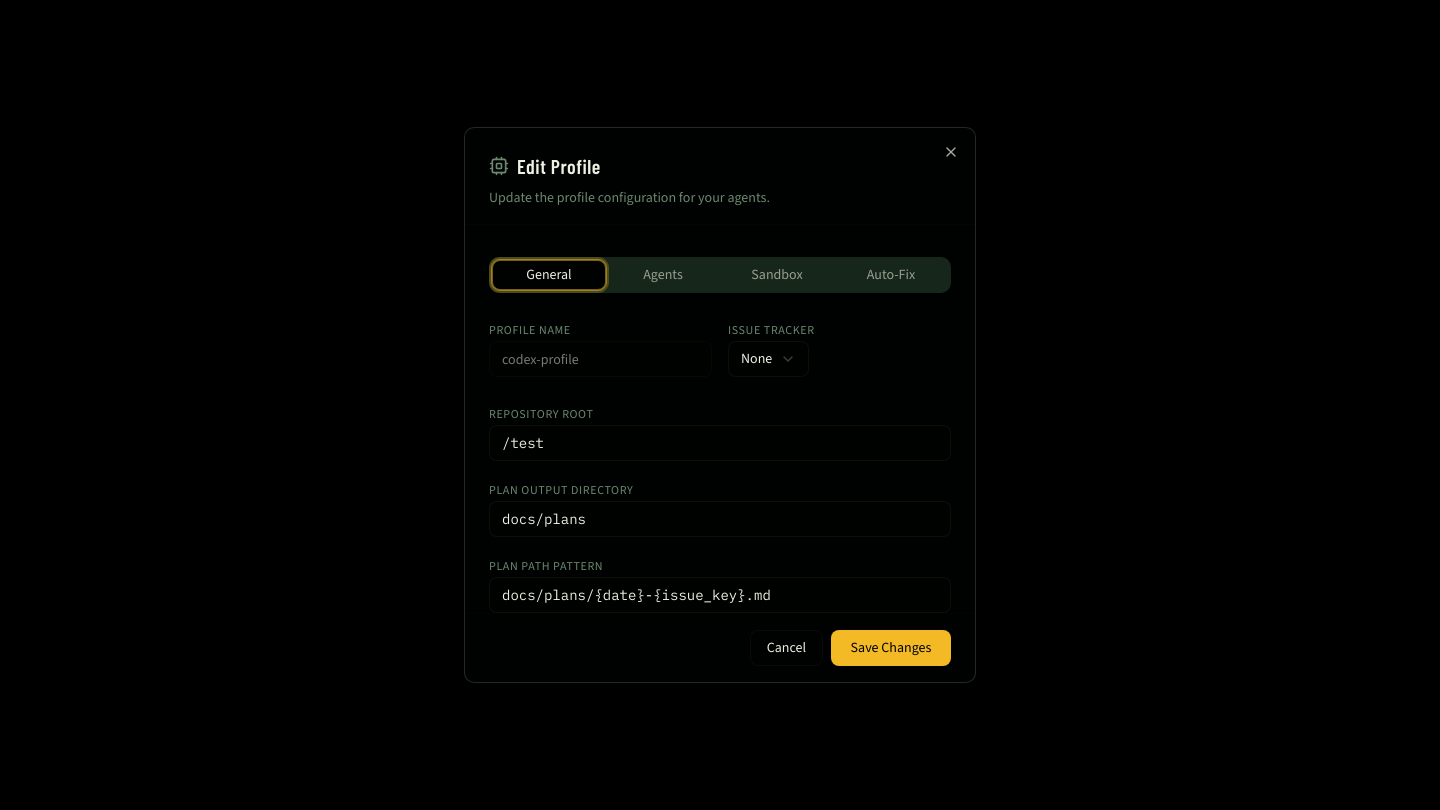
Test: ProfileEditModal model selection › should show codex model options when driver is codex
The width and height of the screenshot is (1440, 810).
# Switch to Agents tab to see agent configuration
What coordinates should you click on to do the following:
click the tab "Agents"
I would click on:
 (663, 275)
Its box is x1=606 y1=260 x2=720 y2=290.
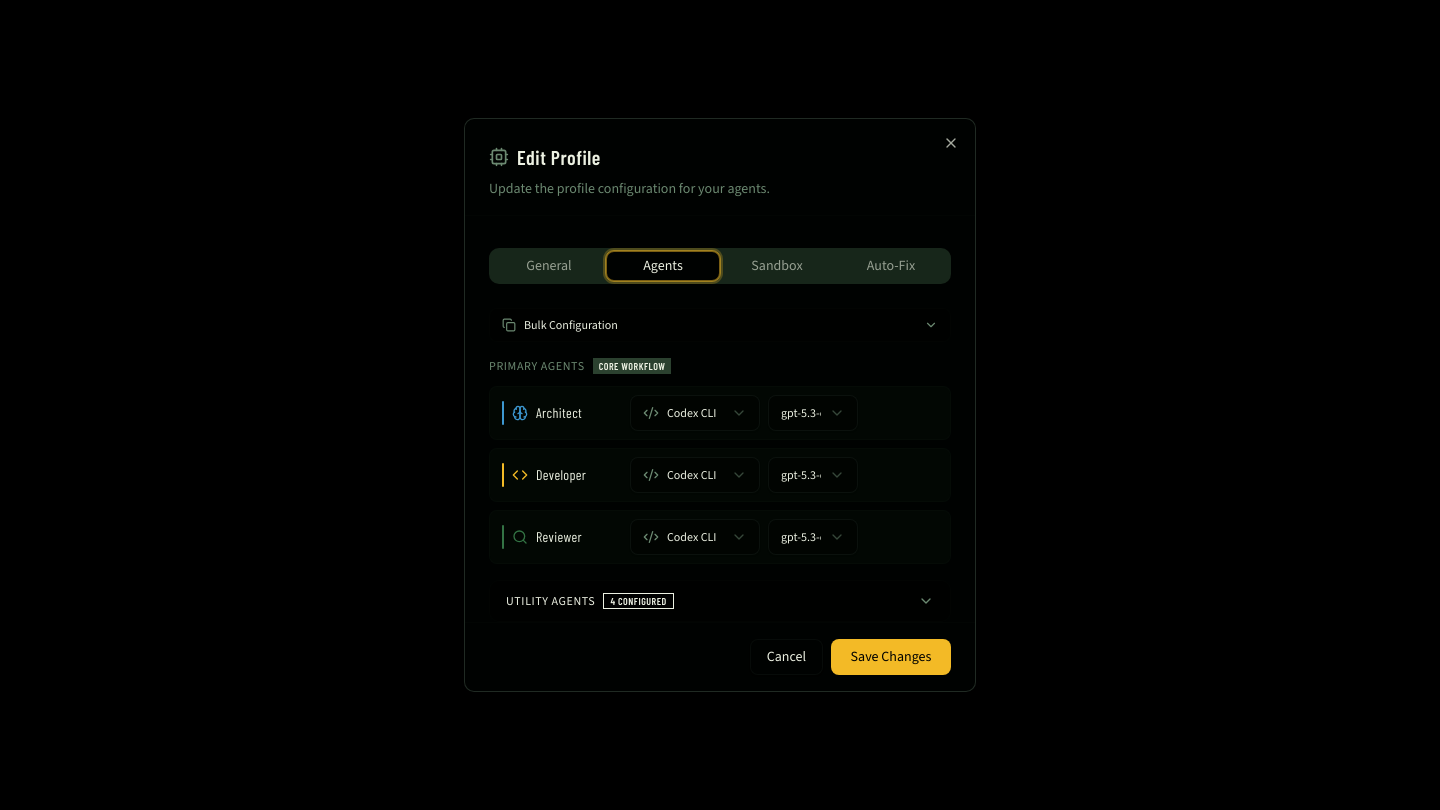
Result: the text "gpt-5.3-codex" in the row of "Architect" is shown at x1=781 y1=405 x2=849 y2=421
